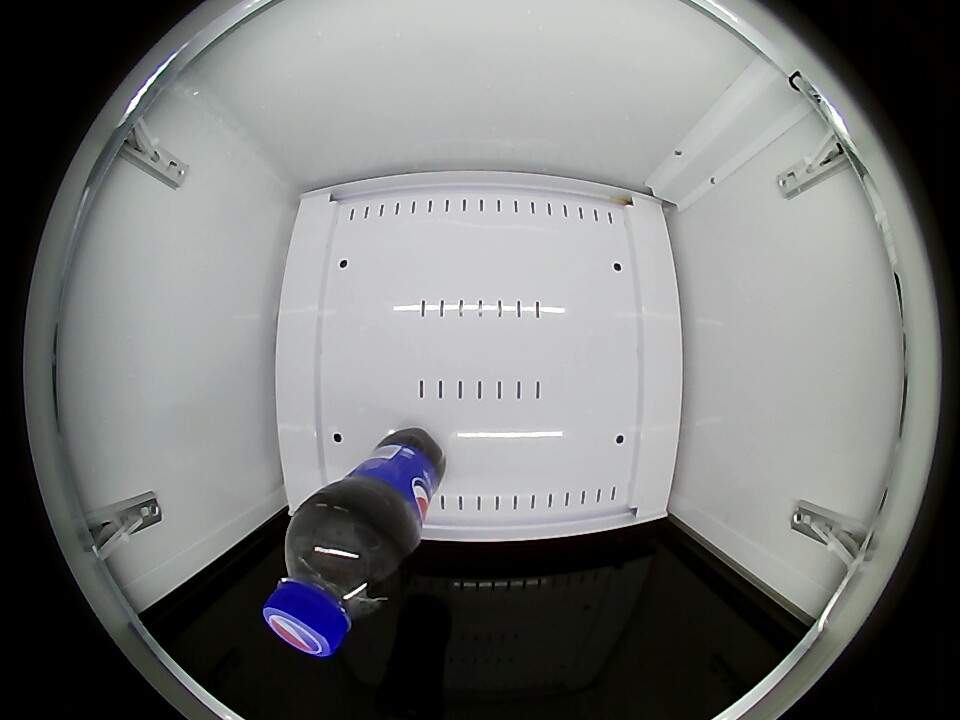baishikele-2: (262, 512, 402, 657)
